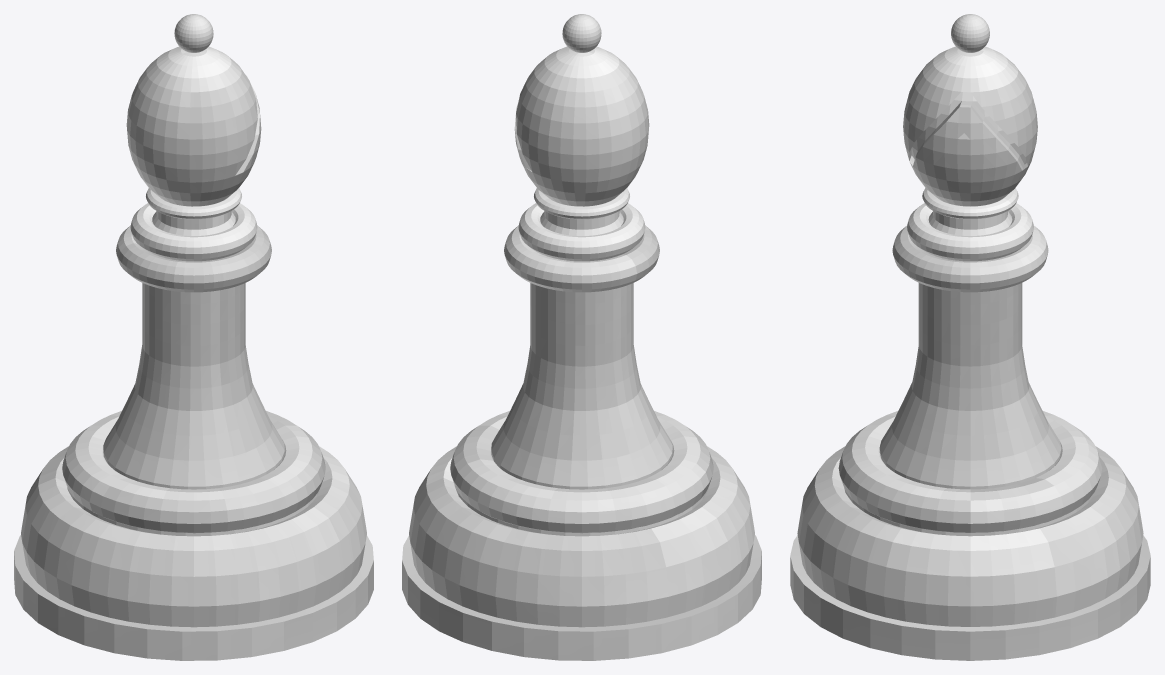
Rendered from Bishop.fbx.
3 views of the same model, side by side, from view 1: azimuth 30°, elevation 25°; view 2: azimuth 150°, elevation 25°; view 3: azimuth 270°, elevation 25° (orthographic).
Visible parts, largest first — view 1: BishopWhite; view 2: BishopWhite; view 3: BishopWhite.
Boxes of the visible parts, bbox=[...] form: BishopWhite: bbox=[14, 14, 373, 660]; BishopWhite: bbox=[402, 14, 761, 660]; BishopWhite: bbox=[790, 14, 1150, 660].
Bounding box in the file's own units: 81.42 × 143 × 81.42.
